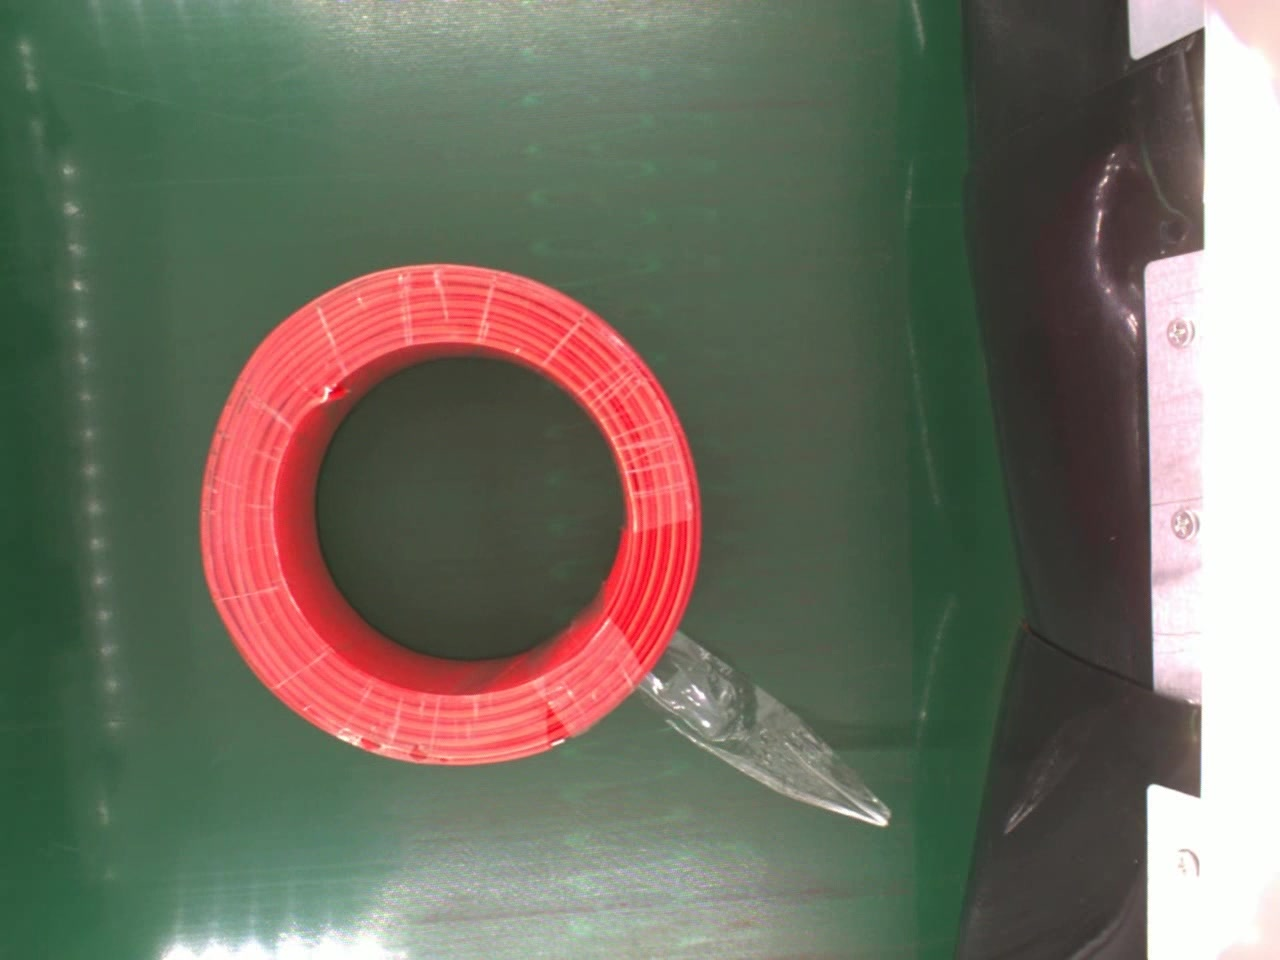red: (193, 260, 705, 768)
